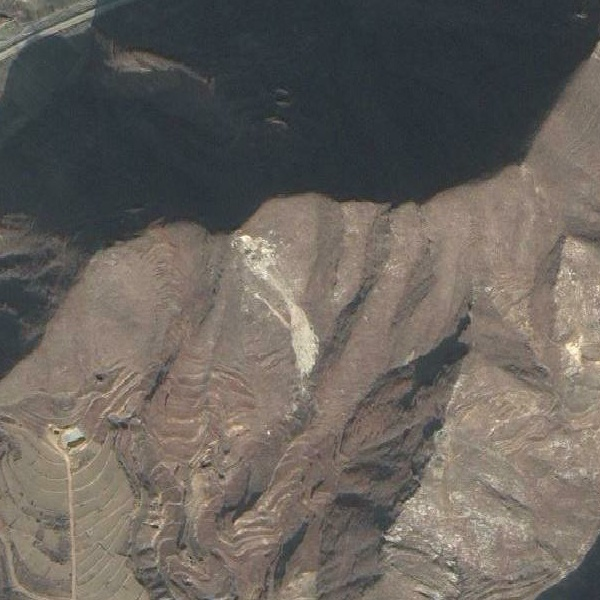slope: (229, 234, 323, 381), (56, 18, 219, 100)
